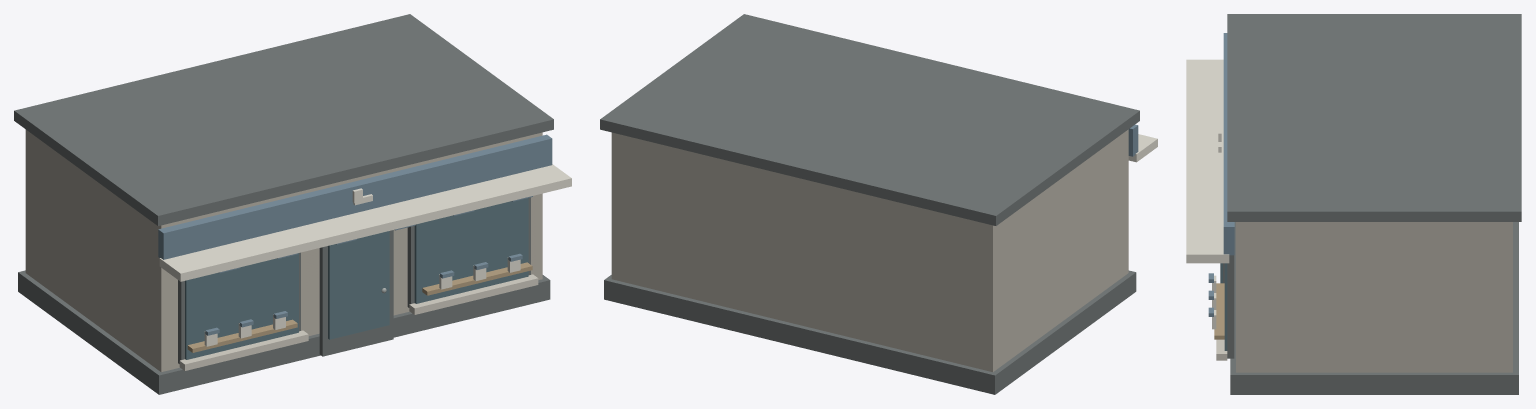
The model's file is sock-shop.glb.
The picture shows the model from 3 angles, left to right: view 1: azimuth 30°, elevation 25°; view 2: azimuth 150°, elevation 25°; view 3: azimuth 270°, elevation 25°; orthographic projection. The views are drawn at different scales.
Parts seen in each view (by area): view 1: dark plinth.001, masonry shell.001, shop glass.002, fascia.001, awning.001, sill.002, display shelf.002; view 2: masonry shell.001, dark plinth.001; view 3: dark plinth.001, masonry shell.001, awning.001, fascia.001, display shelf.002, shop glass.002.
Part boxes in pixels (x1,y1,x2,y2): dark plinth.001: (14, 14, 553, 394); masonry shell.001: (25, 129, 542, 372); shop glass.002: (185, 198, 528, 359); fascia.001: (158, 134, 552, 335); awning.001: (159, 164, 571, 346); sill.002: (179, 274, 538, 370); display shelf.002: (187, 262, 532, 352); masonry shell.001: (611, 129, 1128, 371); dark plinth.001: (600, 14, 1139, 394); dark plinth.001: (1223, 14, 1521, 394); masonry shell.001: (1236, 222, 1512, 372); awning.001: (1186, 59, 1229, 329); fascia.001: (1208, 33, 1234, 316); display shelf.002: (1214, 283, 1224, 339); shop glass.002: (1220, 263, 1227, 350).
Size of the model in its own units: 8.1 by 3.53 by 5.82.
